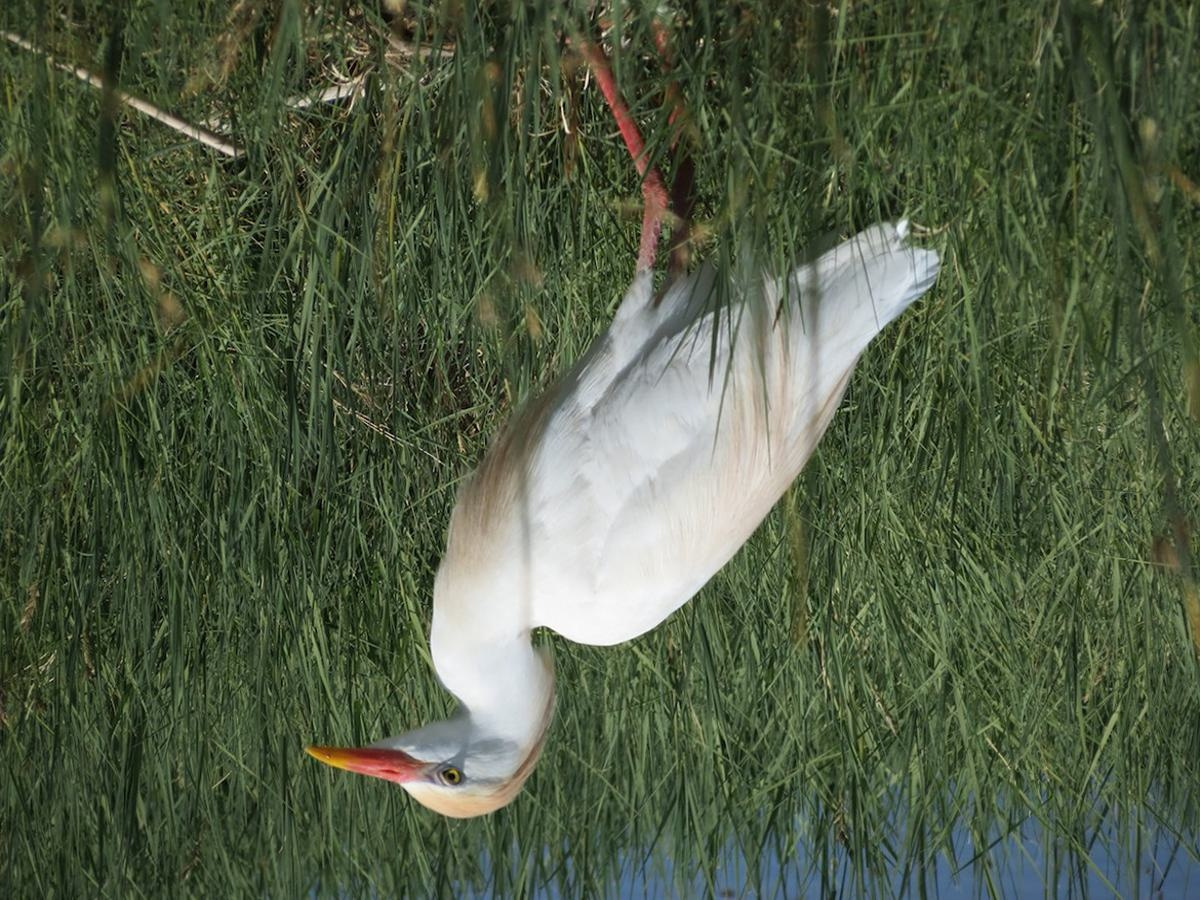egret: (299, 19, 931, 859)
